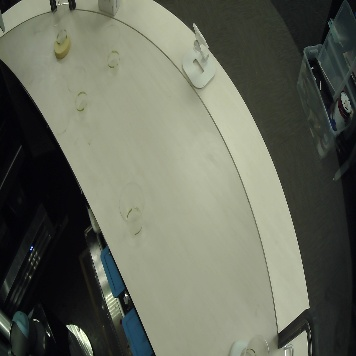empty_cup: (118, 182, 147, 237), (66, 67, 90, 114), (101, 23, 122, 73), (50, 7, 70, 44), (245, 333, 269, 356)
puck: (53, 37, 71, 60), (228, 338, 250, 356)
